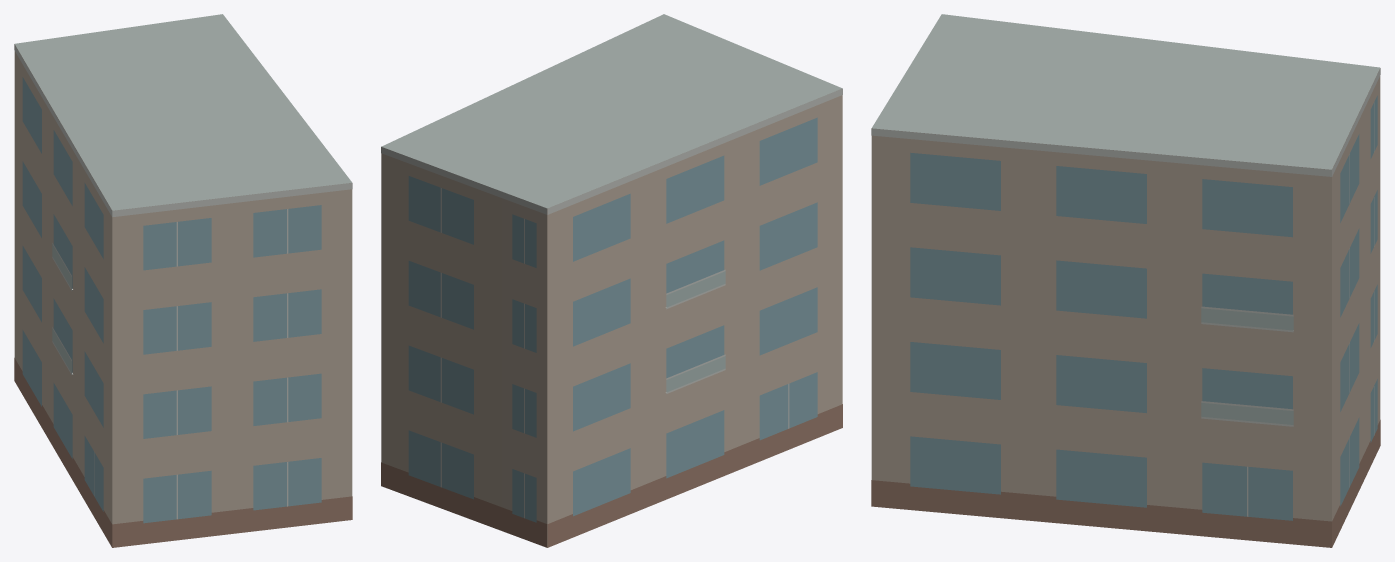
File: survey-upis-32977495.glb
3 renders of one model, left to right at view 1: azimuth 30°, elevation 25°; view 2: azimuth 150°, elevation 25°; view 3: azimuth 270°, elevation 25°, orthographic. The views are drawn at different scales.
Parts seen in each view (by area): view 1: survey-upis-32977495.tmp; view 2: survey-upis-32977495.tmp; view 3: survey-upis-32977495.tmp.
Boxes of the visible parts, <box> form: survey-upis-32977495.tmp: <box>14,14,352,547</box>; survey-upis-32977495.tmp: <box>381,14,842,547</box>; survey-upis-32977495.tmp: <box>871,14,1380,547</box>.
Bounding box in the file's own units: 11.23 × 12.7 × 15.5.
